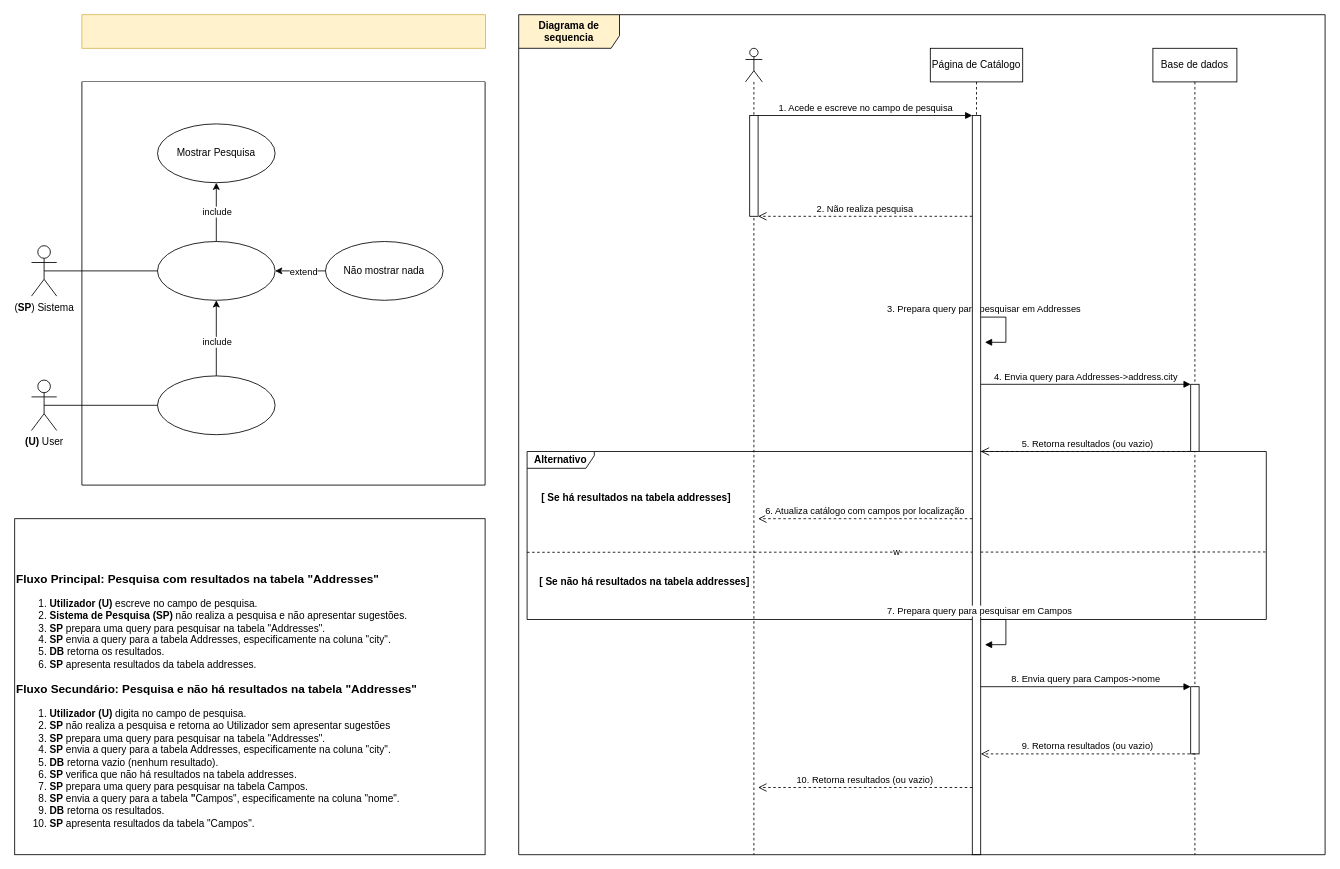
Image size: 1340x869. Some labels were removed from this diagram. Here are the shapes that lost their labels. From the top down, the centre of each, then its label:
the point at 283,31: Pesquisa Campo - Use Case
the point at 216,270: Obter Sugestões de pesquisa
the point at 216,405: Pesquisar Campo de Padel
